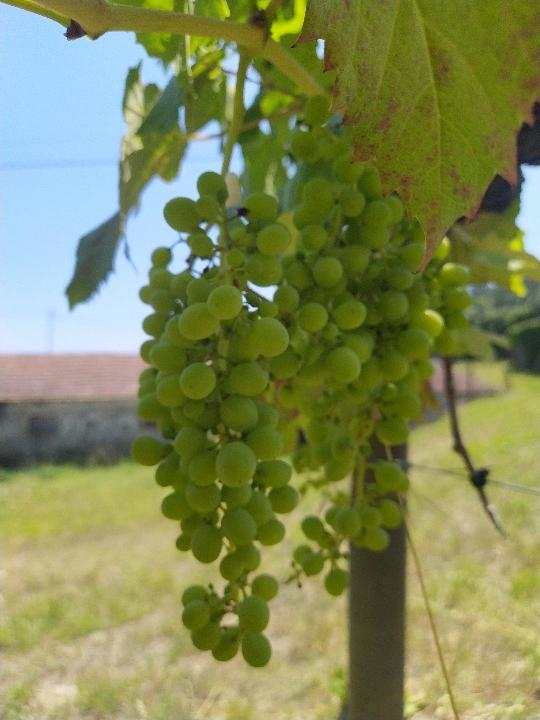grape: (279, 92, 472, 597), (128, 170, 293, 671)
